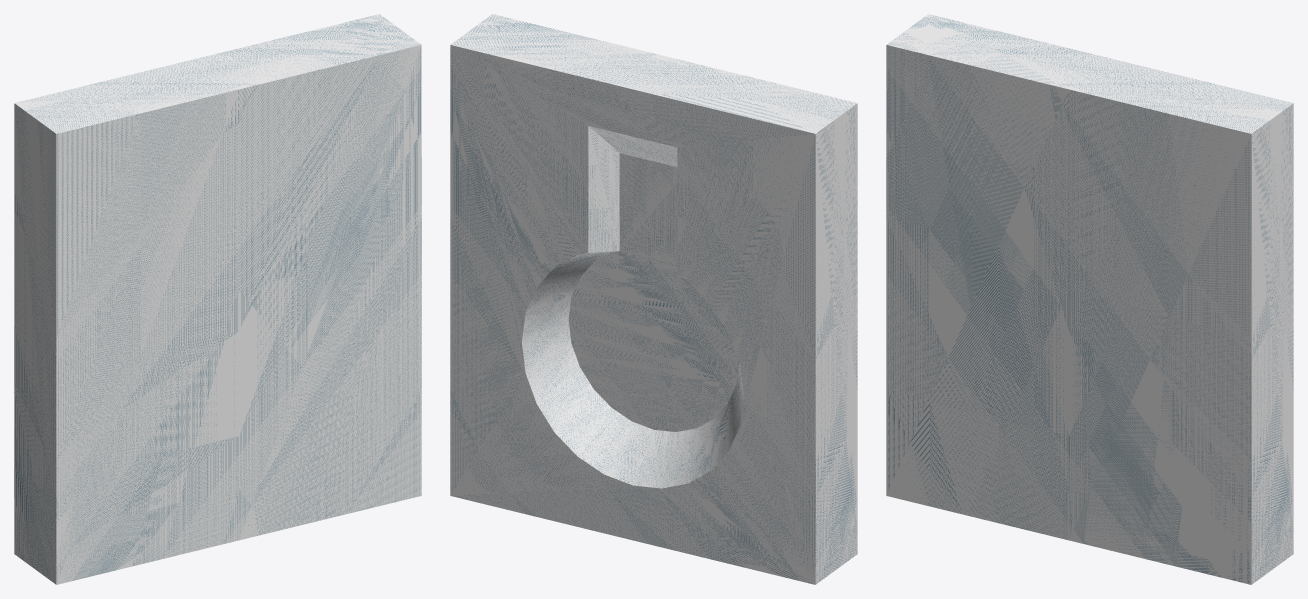
Rendered from Bearing.dae.
3 renders of one model, left to right at view 1: azimuth 30°, elevation 25°; view 2: azimuth 150°, elevation 25°; view 3: azimuth 330°, elevation 25°, orthographic.
Visible parts, largest first — view 1: SketchUp; view 2: SketchUp (×2); view 3: SketchUp.
Part boxes in pixels (x1,y1,x2,y2): SketchUp: [14, 14, 421, 584]; SketchUp (×2): [450, 14, 857, 584]; SketchUp: [886, 14, 1293, 584].
Bounding box in the file's own units: 197 × 39.37 × 232.
